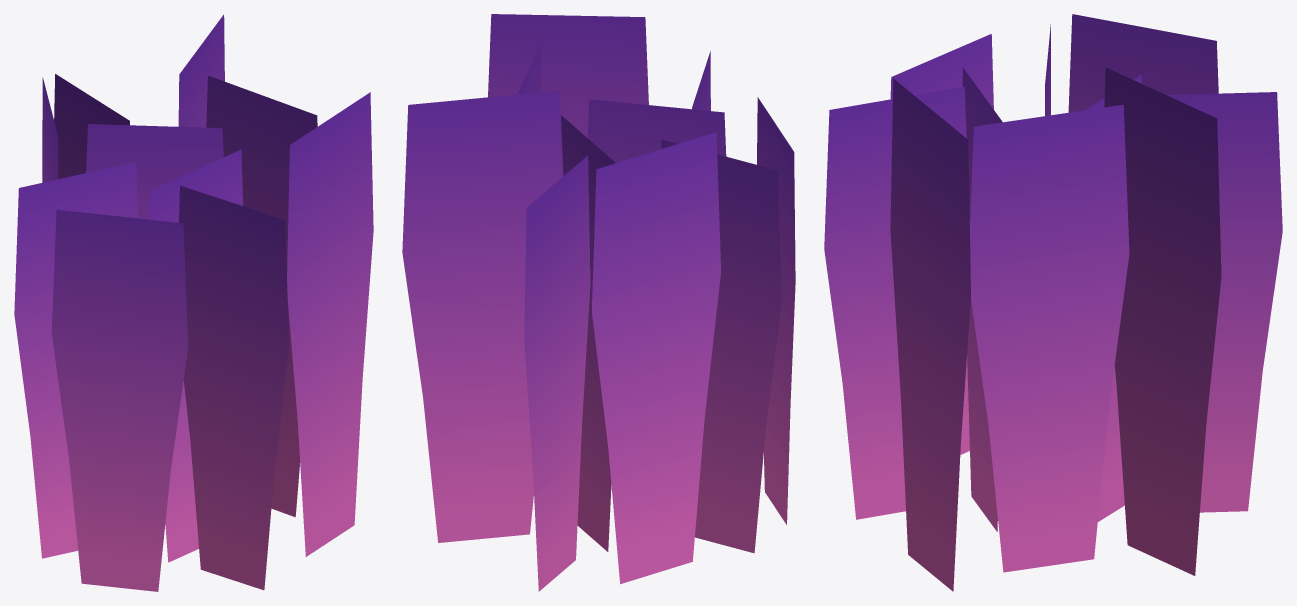
Rendered from anp_grass_1.fbx.
3 views of the same model, side by side, from view 1: azimuth 30°, elevation 25°; view 2: azimuth 150°, elevation 25°; view 3: azimuth 270°, elevation 25° (orthographic). The views are drawn at different scales.
Visible parts, largest first — view 1: grass1; view 2: grass1; view 3: grass1.
Part boxes in pixels (x1,y1,x2,y2): grass1: [14, 14, 373, 591]; grass1: [402, 14, 795, 591]; grass1: [824, 14, 1282, 591].
Bounding box in the file's own units: 32.94 × 41.53 × 36.88.
